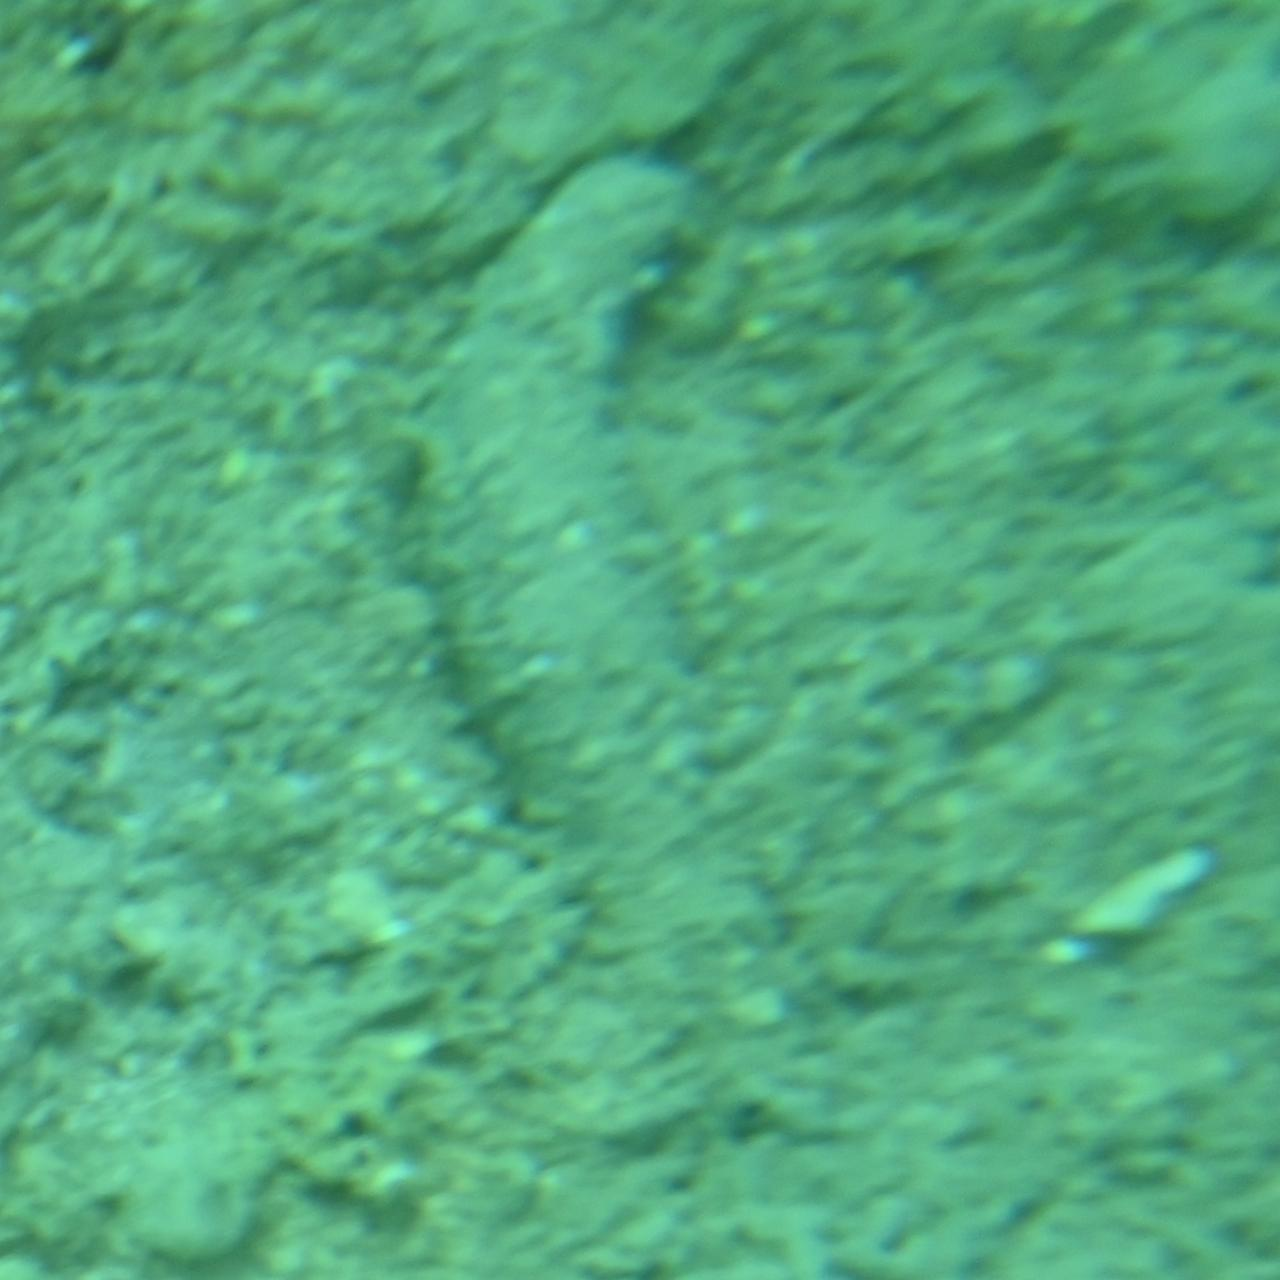Holothuria tubulosa: (434, 146, 846, 1134)
